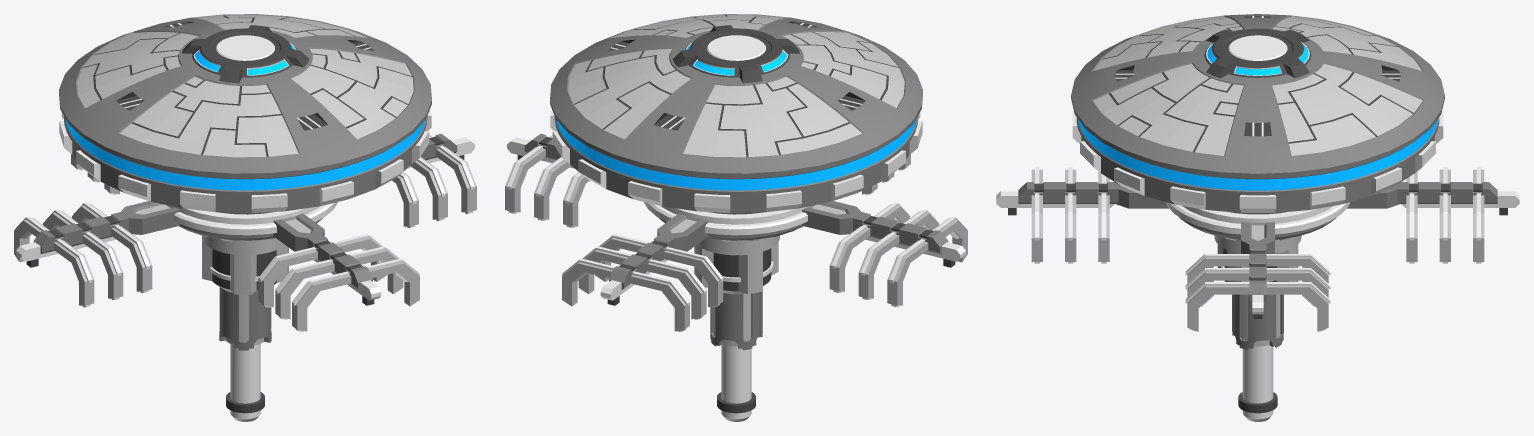
File: Station03.fbx
3 renders of one model, left to right at view 1: azimuth 30°, elevation 25°; view 2: azimuth 150°, elevation 25°; view 3: azimuth 270°, elevation 25°, orthographic.
Visible parts, largest first — view 1: Mesh_HD, Docking_HD, Ring_HD; view 2: Mesh_HD, Docking_HD, Ring_HD; view 3: Mesh_HD, Docking_HD, Ring_HD.
Boxes of the visible parts, x1,y1,x2,y2 form: Mesh_HD: (59,14,431,421); Docking_HD: (14,133,476,331); Ring_HD: (63,116,427,195); Mesh_HD: (550,14,922,421); Docking_HD: (505,133,967,331); Ring_HD: (554,116,918,195); Mesh_HD: (1071,14,1444,421); Docking_HD: (996,167,1519,331); Ring_HD: (1076,117,1439,195).
Bounding box in the file's own units: 2400 × 1870 × 2400.
